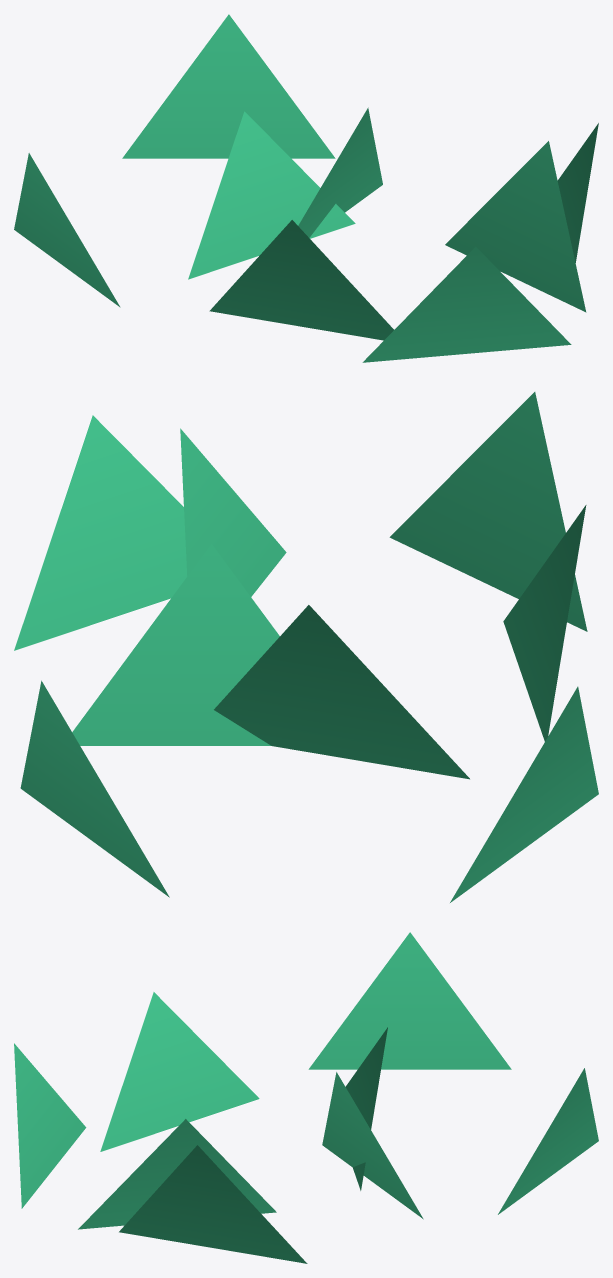
Rendered from Mowed High LOD_015_4.glb.
The picture shows the model from 3 angles, top to bottom: view 1: azimuth 30°, elevation 25°; view 2: azimuth 150°, elevation 25°; view 3: azimuth 270°, elevation 25°; orthographic projection. The views are drawn at different scales.
Visible parts, largest first — view 1: Mowed Grass High LOD; view 2: Mowed Grass High LOD; view 3: Mowed Grass High LOD.
Boxes of the visible parts, x1,y1,x2,y2 form: Mowed Grass High LOD: [14, 14, 598, 362]; Mowed Grass High LOD: [14, 392, 598, 902]; Mowed Grass High LOD: [14, 932, 598, 1263].
Size of the model in its own units: 0.3814 by 0.1 by 0.4428.
